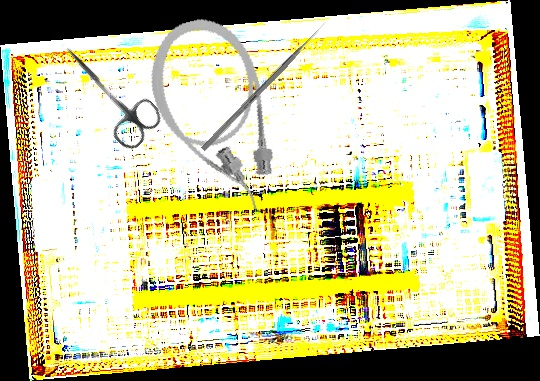Cannula: (137, 8, 291, 227)
Iris Scissors: (46, 31, 168, 155)
Pusher: (200, 20, 329, 152)
